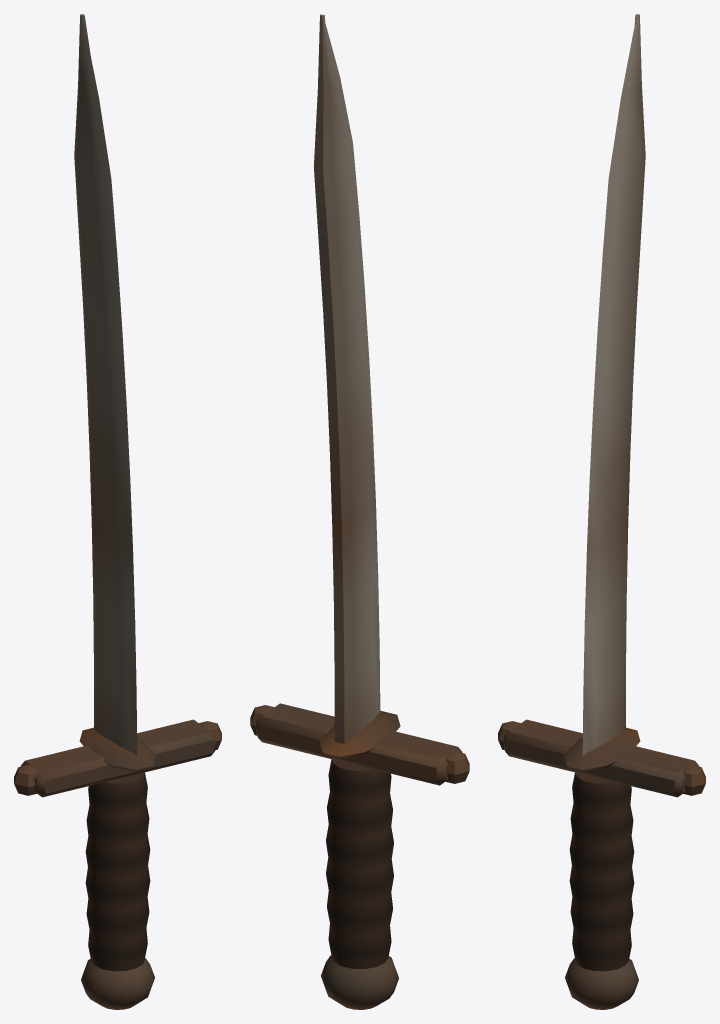
Rendered from weapon_sword_rusty_hi.glb.
The picture shows the model from 3 angles, left to right: view 1: azimuth 30°, elevation 25°; view 2: azimuth 150°, elevation 25°; view 3: azimuth 330°, elevation 25°; orthographic projection. The views are drawn at different scales.
Visible parts, largest first — view 1: weapon_sword_rusty_hi; view 2: weapon_sword_rusty_hi; view 3: weapon_sword_rusty_hi.
Boxes of the visible parts, x1,y1,x2,y2 form: weapon_sword_rusty_hi: (14, 14, 221, 1009); weapon_sword_rusty_hi: (250, 14, 469, 1009); weapon_sword_rusty_hi: (498, 14, 705, 1009).
Size of the model in its own units: 0.232 by 1.03 by 0.1284.
